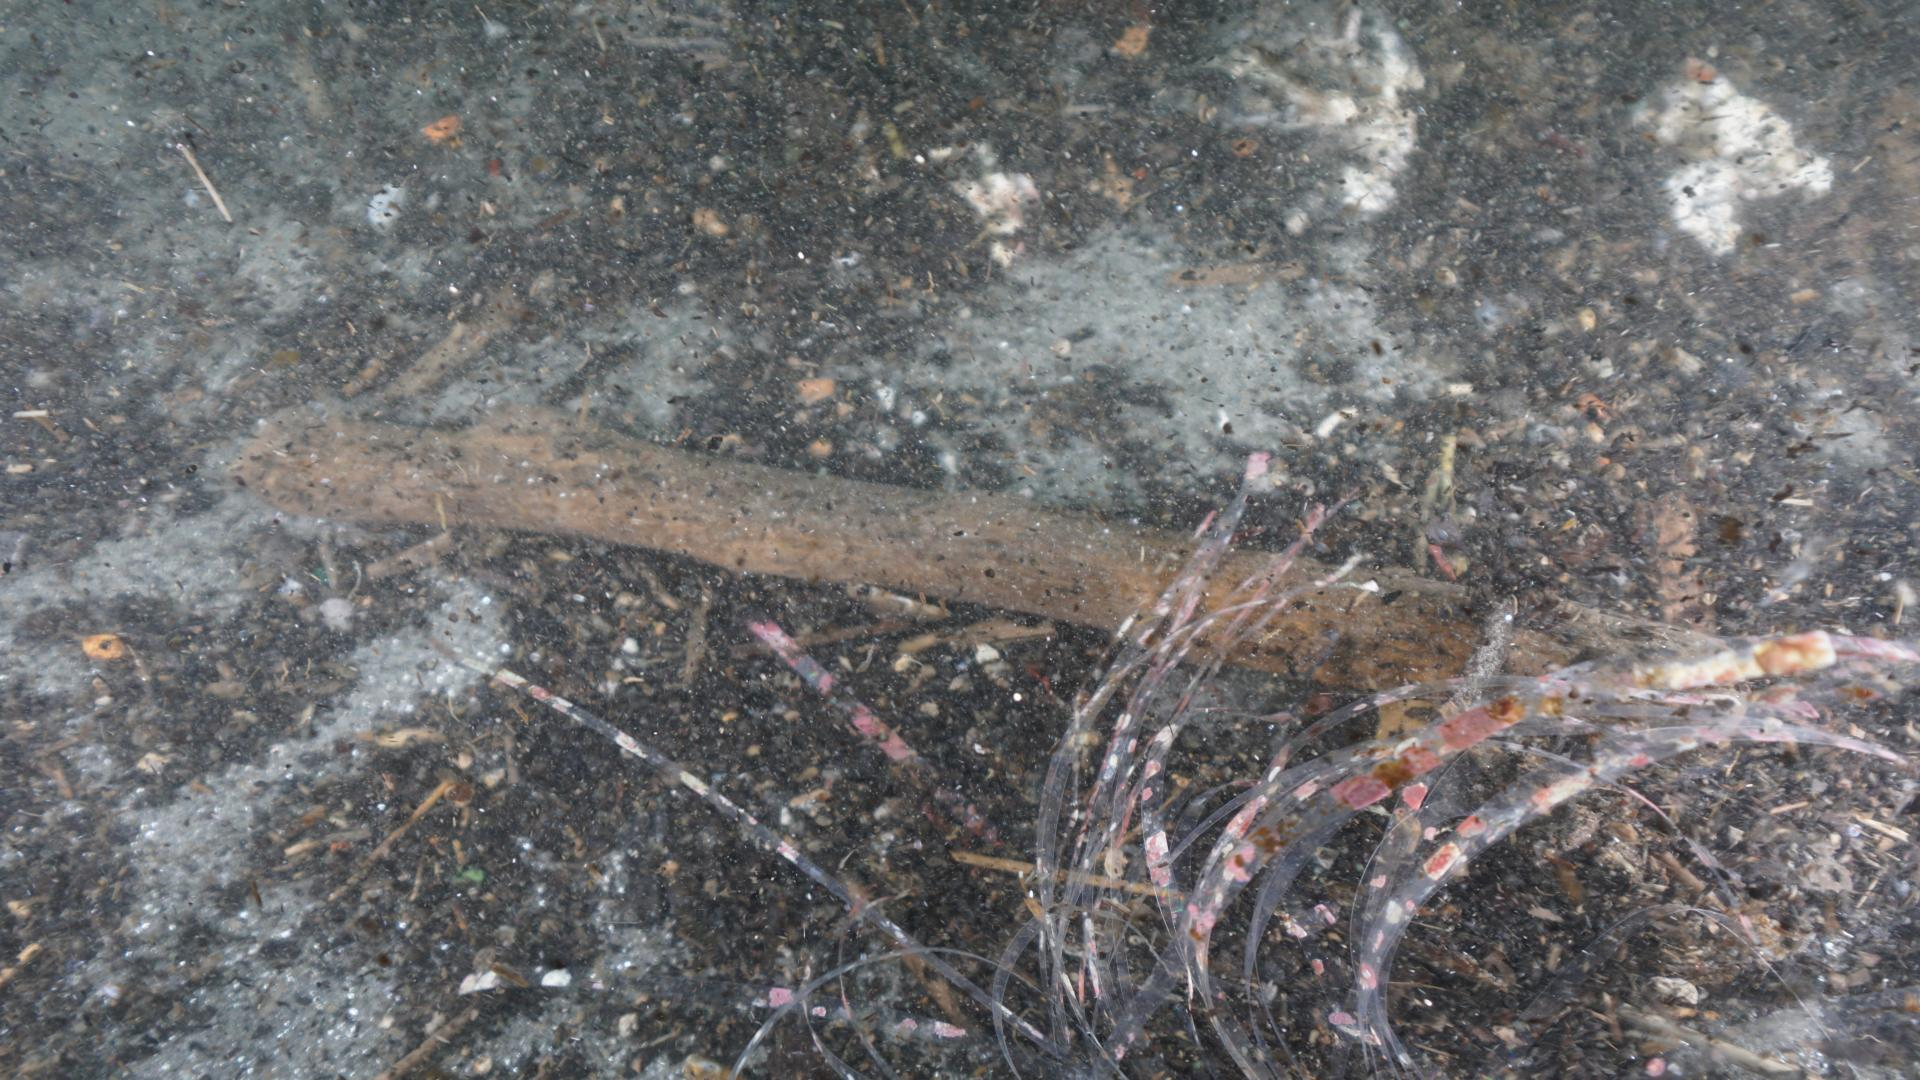wood: (229, 404, 1568, 694)
